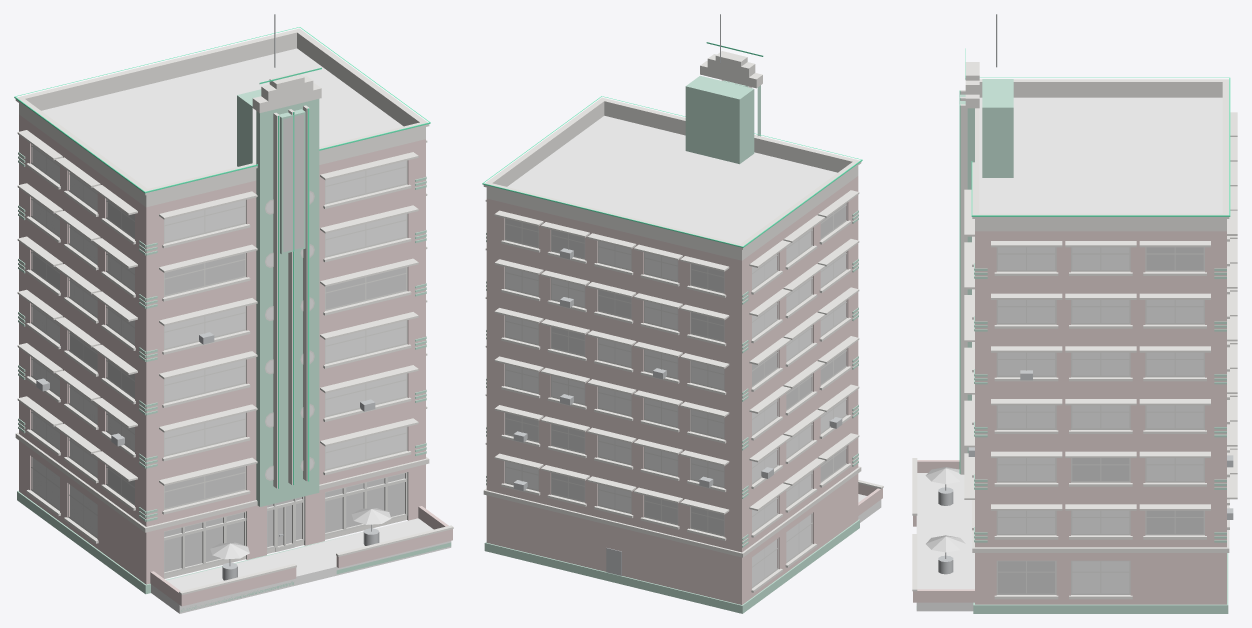
Rendered from deco_w66f6.glb.
3 views of the same model, side by side, from view 1: azimuth 30°, elevation 25°; view 2: azimuth 150°, elevation 25°; view 3: azimuth 270°, elevation 25° (orthographic). The views are drawn at different scales.
Visible parts, largest first — view 1: deco_w66f6_Walls, deco_w66f6_Trim, deco_w66f6_Glass, deco_w66f6_Accent, deco_w66f6_Roof, deco_w66f6_WindowsLit, deco_w66f6_Frames, deco_w66f6_Walls2, deco_w66f6_Neon, deco_w66f6_Brand, deco_w66f6_Details, deco_w66f6_Awning; view 2: deco_w66f6_Walls, deco_w66f6_Trim, deco_w66f6_Roof, deco_w66f6_Glass, deco_w66f6_Accent, deco_w66f6_WindowsLit, deco_w66f6_Frames, deco_w66f6_Details, deco_w66f6_Neon; view 3: deco_w66f6_Walls, deco_w66f6_Trim, deco_w66f6_Roof, deco_w66f6_Glass, deco_w66f6_Accent, deco_w66f6_Frames, deco_w66f6_WindowsLit, deco_w66f6_Walls2, deco_w66f6_Neon, deco_w66f6_Details, deco_w66f6_Awning.
Boxes of the visible parts, left/top/right/bottom form: deco_w66f6_Walls: left=19, top=114, right=452, bottom=606; deco_w66f6_Trim: left=15, top=28, right=453, bottom=595; deco_w66f6_Glass: left=32, top=145, right=406, bottom=536; deco_w66f6_Accent: left=17, top=89, right=451, bottom=612; deco_w66f6_Roof: left=41, top=48, right=403, bottom=188; deco_w66f6_WindowsLit: left=32, top=200, right=406, bottom=572; deco_w66f6_Frames: left=31, top=144, right=407, bottom=574; deco_w66f6_Walls2: left=151, top=518, right=451, bottom=613; deco_w66f6_Neon: left=14, top=27, right=430, bottom=488; deco_w66f6_Brand: left=283, top=114, right=303, bottom=252; deco_w66f6_Details: left=36, top=14, right=379, bottom=580; deco_w66f6_Awning: left=210, top=508, right=391, bottom=559; deco_w66f6_Walls: left=486, top=176, right=882, bottom=604; deco_w66f6_Trim: left=483, top=51, right=883, bottom=592; deco_w66f6_Roof: left=507, top=115, right=837, bottom=243; deco_w66f6_Glass: left=505, top=229, right=845, bottom=586; deco_w66f6_Accent: left=484, top=75, right=859, bottom=613; deco_w66f6_WindowsLit: left=505, top=204, right=845, bottom=535; deco_w66f6_Frames: left=504, top=203, right=847, bottom=588; deco_w66f6_Details: left=513, top=14, right=842, bottom=575; deco_w66f6_Neon: left=482, top=42, right=862, bottom=247; deco_w66f6_Walls: left=913, top=231, right=1226, bottom=604; deco_w66f6_Trim: left=912, top=62, right=1237, bottom=599; deco_w66f6_Roof: left=979, top=97, right=1222, bottom=213; deco_w66f6_Glass: left=998, top=247, right=1203, bottom=593; deco_w66f6_Accent: left=916, top=79, right=1228, bottom=613; deco_w66f6_Frames: left=996, top=247, right=1204, bottom=594; deco_w66f6_WindowsLit: left=998, top=247, right=1203, bottom=593; deco_w66f6_Walls2: left=916, top=473, right=974, bottom=611; deco_w66f6_Neon: left=959, top=48, right=1230, bottom=473; deco_w66f6_Details: left=938, top=14, right=1233, bottom=574; deco_w66f6_Awning: left=925, top=467, right=965, bottom=552.
Size of the model in its own units: 70.4 by 121 by 67.1.
